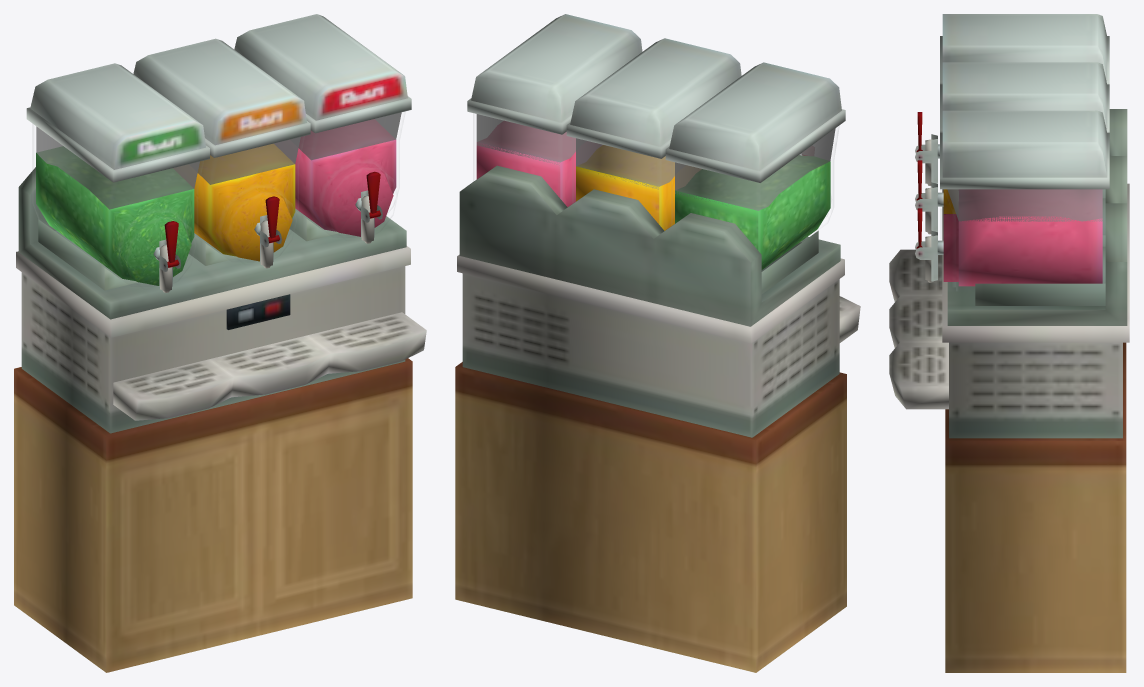
The picture shows the model from 3 angles, left to right: view 1: azimuth 30°, elevation 25°; view 2: azimuth 150°, elevation 25°; view 3: azimuth 270°, elevation 25°; orthographic projection. The views are drawn at different scales.
Bounding box in the file's own units: 9.6 × 15.93 × 6.65.
4 materials, 4 textured.
